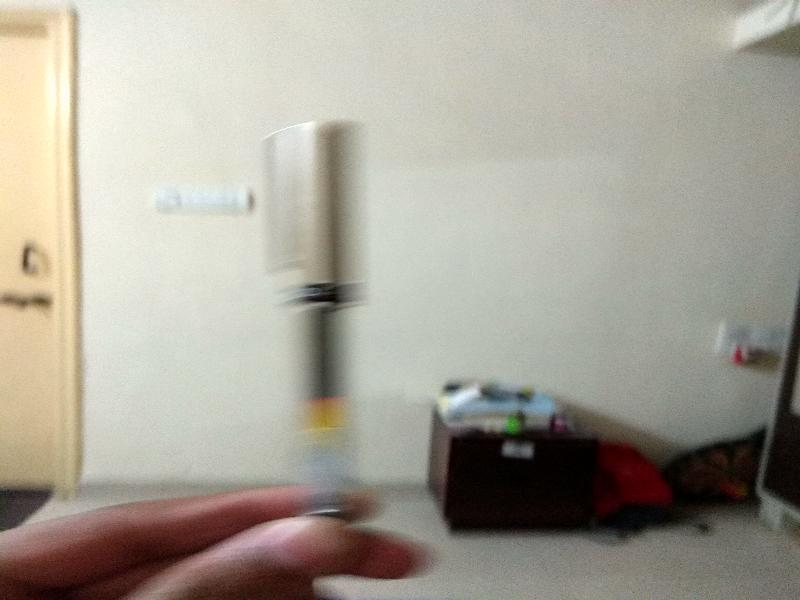pen: (262, 109, 385, 570)
